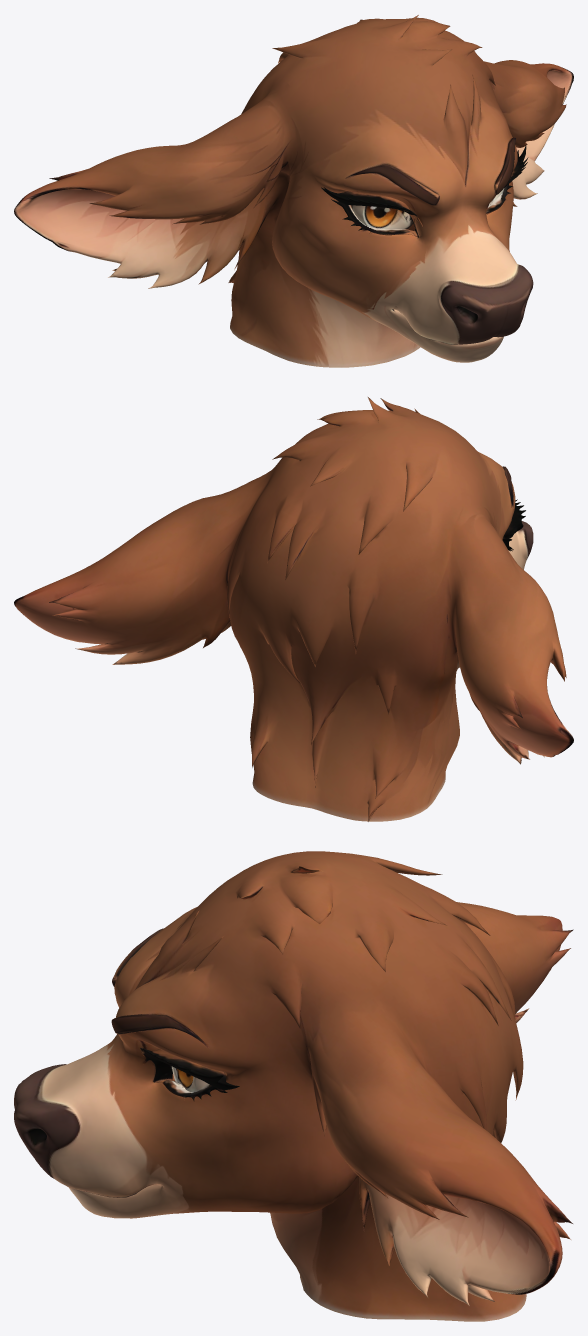
Rendered from baine-head-lite.glb.
3 views of the same model, one above another, from view 1: azimuth 30°, elevation 25°; view 2: azimuth 150°, elevation 25°; view 3: azimuth 270°, elevation 25° (orthographic). The views are drawn at different scales.
Parts seen in each view (by area): view 1: tripo_1327552e_c017_4051_8a57_d92a93e3bd97; view 2: tripo_1327552e_c017_4051_8a57_d92a93e3bd97; view 3: tripo_1327552e_c017_4051_8a57_d92a93e3bd97.
Part boxes in pixels (x1,y1,x2,y2): tripo_1327552e_c017_4051_8a57_d92a93e3bd97: [14, 15, 573, 367]; tripo_1327552e_c017_4051_8a57_d92a93e3bd97: [14, 397, 573, 821]; tripo_1327552e_c017_4051_8a57_d92a93e3bd97: [14, 851, 573, 1321].
Bounding box in the file's own units: 1.03 × 0.6 × 0.7028.
1 material, 1 textured.
